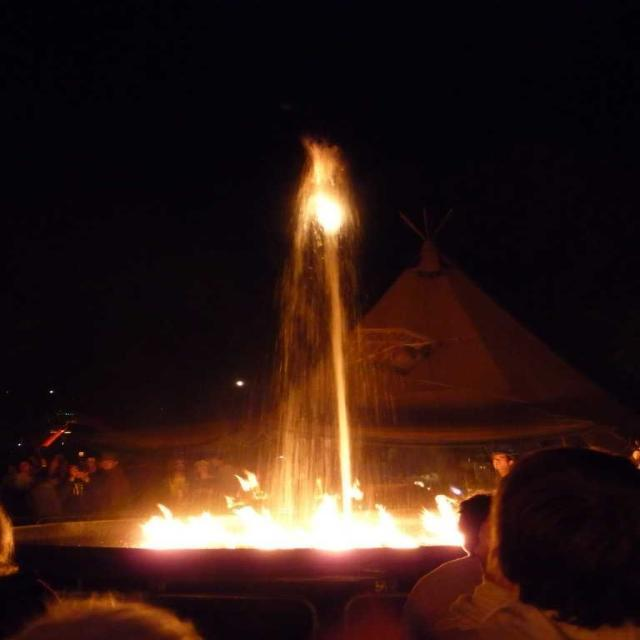Fire: (154, 516, 388, 546)
